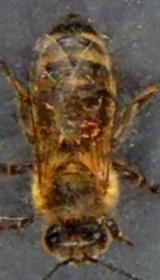varroa_mite: (72, 116, 108, 142)
